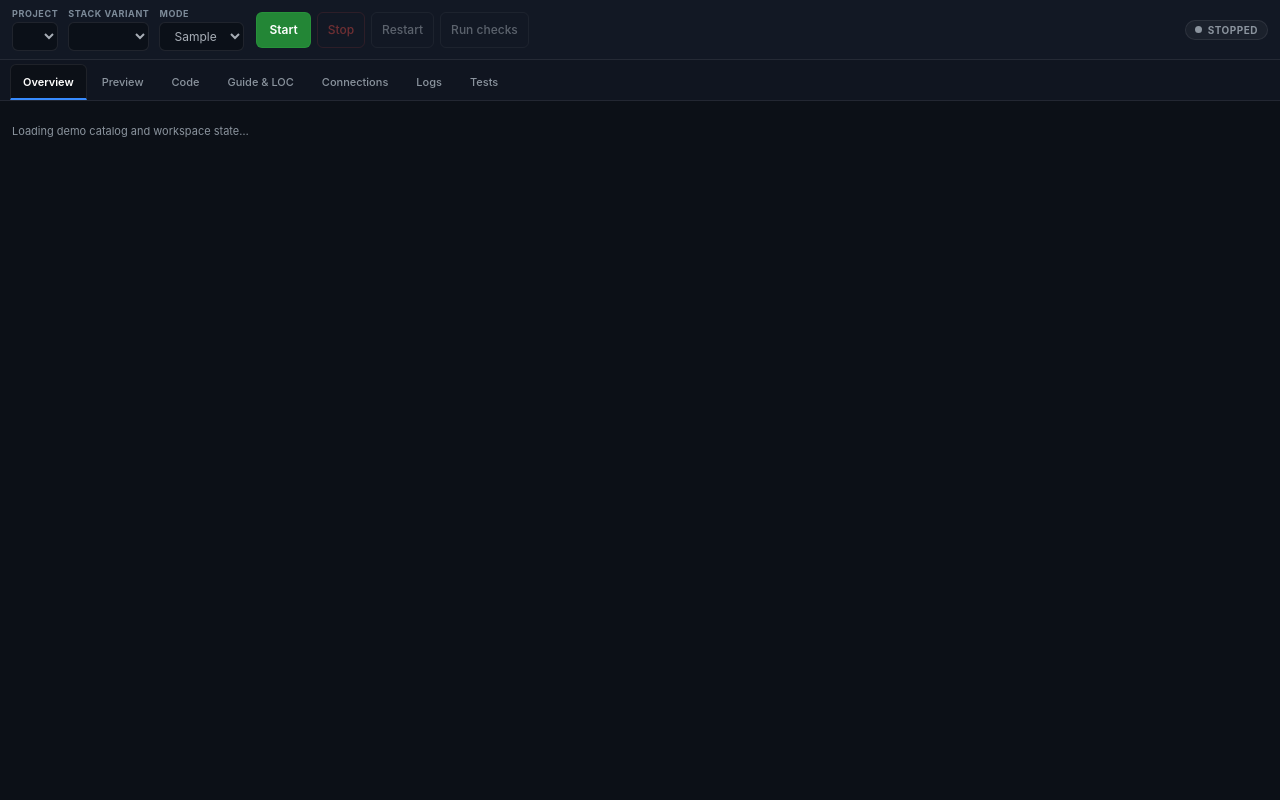
Test case: Demo Projects pane › renders Guide & LOC tab with metrics, files breakdown and button catalog
Click the tab "Guide & LOC": (261, 82) [214, 64, 307, 100]
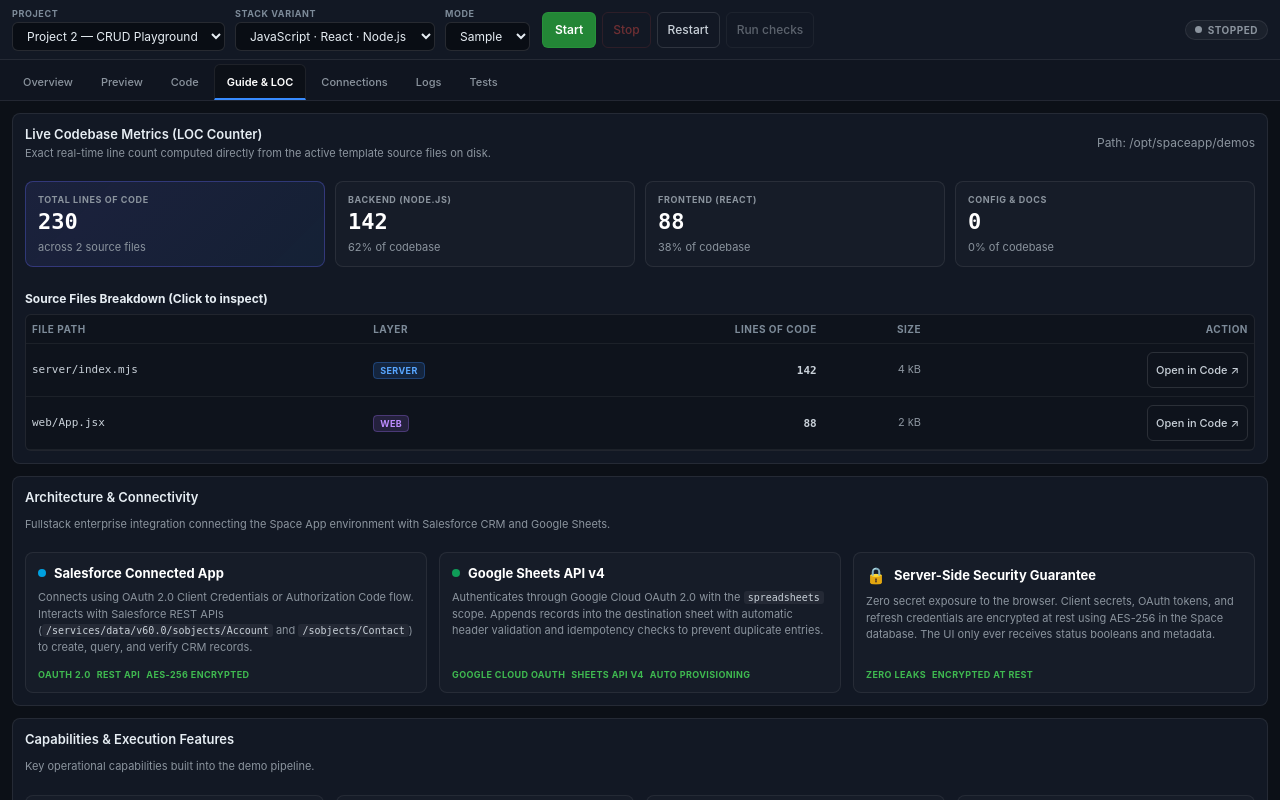
Result: the heading "Live Codebase Metrics (LOC Counter)" is shown at [25, 126, 262, 142]
Result: the text "230" is shown at [38, 209, 78, 234]
Result: the text "server/index.mjs" is shown at [26, 343, 367, 396]
